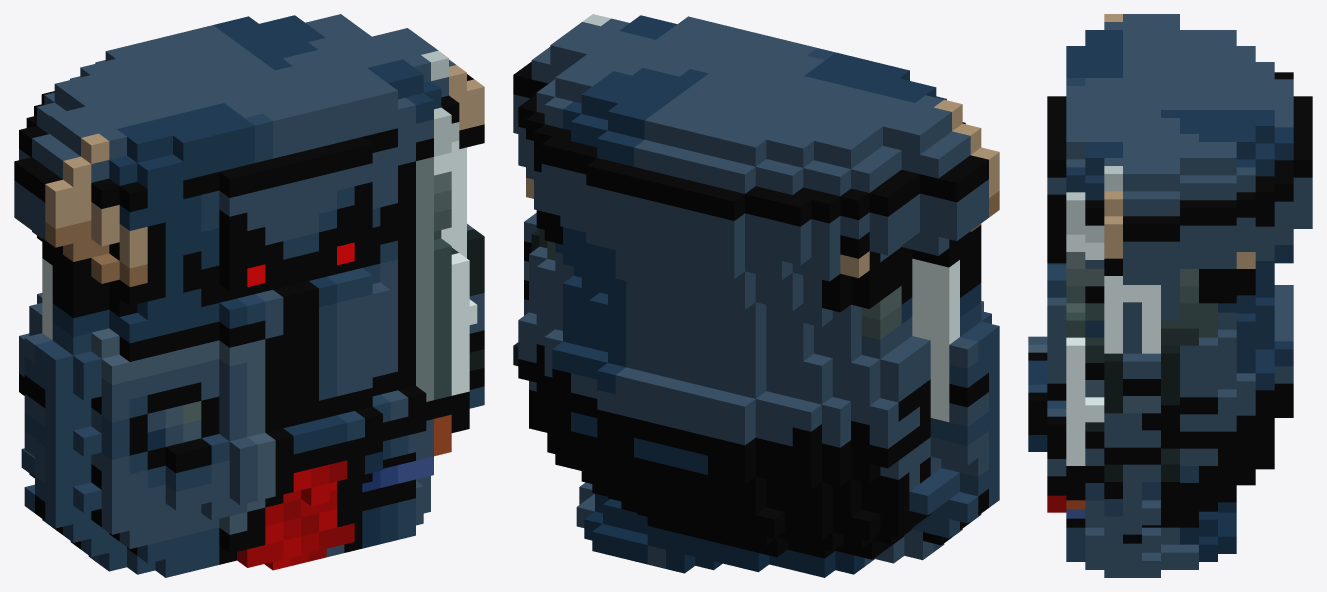
File: Icon_742_01.obj
3 renders of one model, left to right at view 1: azimuth 30°, elevation 25°; view 2: azimuth 150°, elevation 25°; view 3: azimuth 270°, elevation 25°, orthographic. The views are drawn at different scales.
Bounding box in the file's own units: 2.4 × 2.4 × 1.5.
